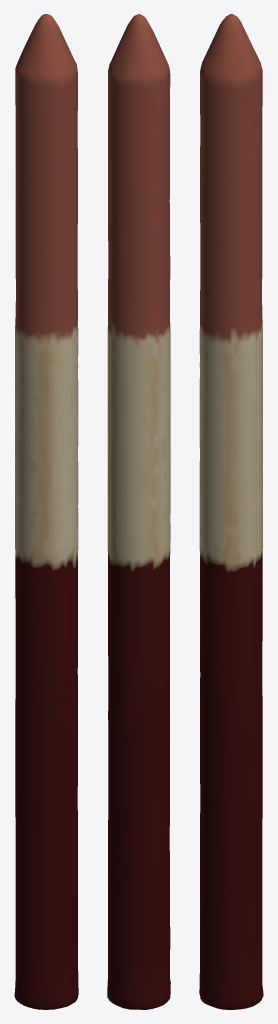
The model's file is gen3d-wand-lod0.glb.
The picture shows the model from 3 angles, left to right: view 1: azimuth 90°, elevation 25°; view 2: azimuth 210°, elevation 25°; view 3: azimuth 270°, elevation 25°; orthographic projection.
Visible parts, largest first — view 1: part_0; view 2: part_0; view 3: part_0.
Part boxes in pixels (x1,y1,x2,y2): part_0: [14, 14, 78, 1009]; part_0: [107, 14, 170, 1009]; part_0: [199, 14, 263, 1009].
Size of the model in its own units: 0.0588 by 1 by 0.0592.
